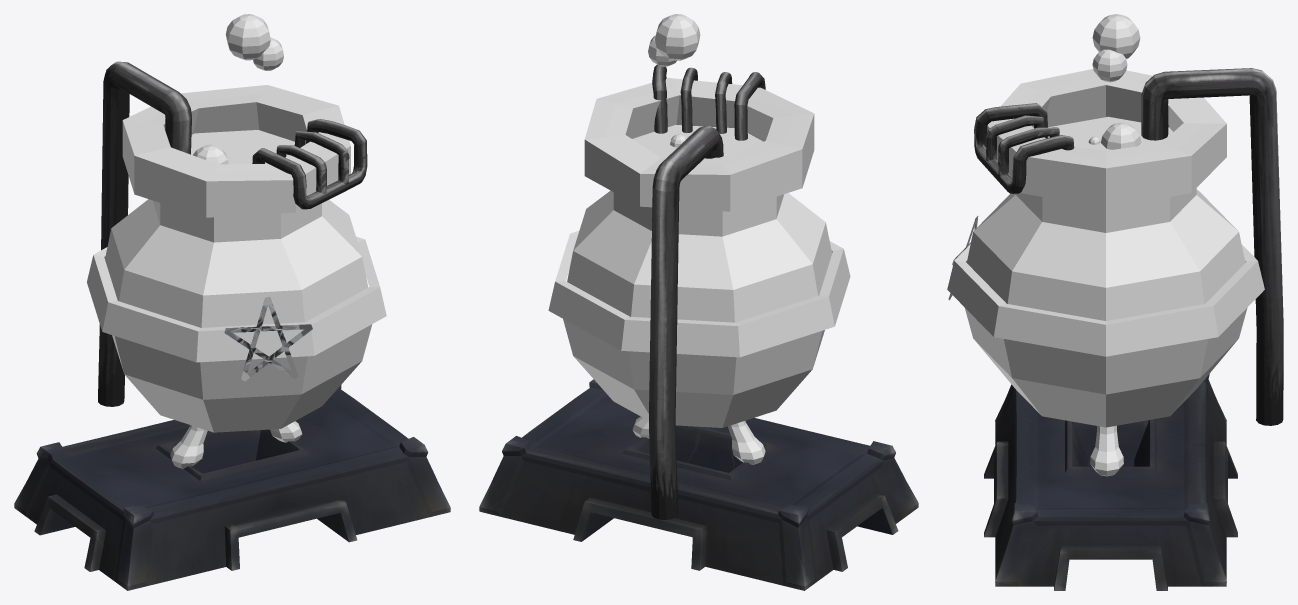
File: SM_kociol.fbx
3 views of the same model, side by side, from view 1: azimuth 30°, elevation 25°; view 2: azimuth 150°, elevation 25°; view 3: azimuth 270°, elevation 25° (orthographic). The views are drawn at different scales.
Visible parts, largest first — view 1: Cylinder, Box004, rury mniejsze.001, Cylinder.002, Cylinder.001, Sphere.003, pentagram, Cylinder.003; view 2: Cylinder, Box004, rury mniejsze.001, Cylinder.002, Sphere.003, Cylinder.001, Cylinder.003; view 3: Cylinder, Box004, rury mniejsze.001, Cylinder.002, Sphere.003, Cylinder.001, Cylinder.003.
Boxes of the visible parts, left/top/right/bottom form: Cylinder: left=105, top=85, right=372, bottom=432; Box004: left=14, top=384, right=450, bottom=590; rury mniejsze.001: left=98, top=61, right=367, bottom=406; Cylinder.002: left=87, top=236, right=386, bottom=362; Cylinder.001: left=191, top=130, right=294, bottom=164; Sphere.003: left=225, top=14, right=283, bottom=70; pentagram: left=224, top=297, right=312, bottom=381; Cylinder.003: left=170, top=421, right=302, bottom=468; Cylinder: left=563, top=78, right=832, bottom=427; Box004: left=479, top=379, right=918, bottom=590; rury mniejsze.001: left=649, top=64, right=765, bottom=519; Cylinder.002: left=548, top=231, right=850, bottom=357; Sphere.003: left=648, top=14, right=700, bottom=66; Cylinder.001: left=632, top=125, right=762, bottom=157; Cylinder.003: left=632, top=416, right=765, bottom=464; Cylinder: left=965, top=69, right=1247, bottom=427; Box004: left=984, top=373, right=1237, bottom=590; rury mniejsze.001: left=974, top=68, right=1283, bottom=425; Cylinder.002: left=947, top=244, right=1264, bottom=356; Sphere.003: left=1092, top=14, right=1140, bottom=82; Cylinder.001: left=1048, top=116, right=1172, bottom=150; Cylinder.003: left=1090, top=425, right=1123, bottom=476.
Size of the model in its own units: 105 by 144 by 87.78.
